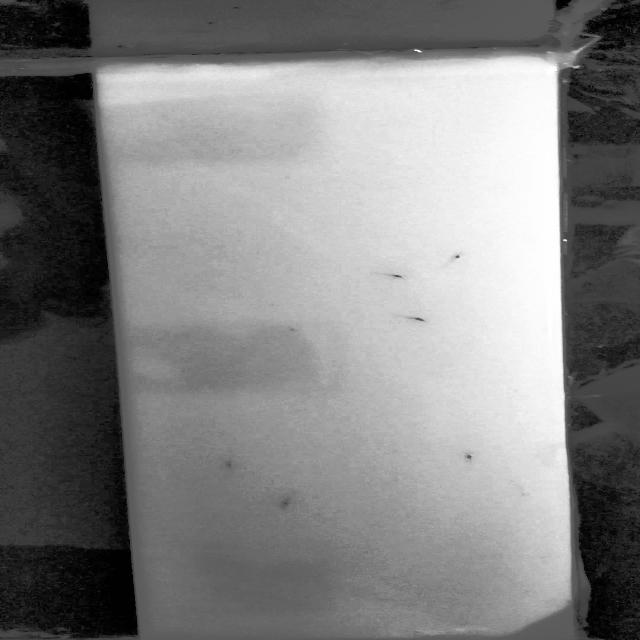shrimp: (448, 449, 486, 465), (408, 312, 438, 332), (442, 249, 470, 270), (274, 496, 302, 516), (385, 273, 418, 286), (208, 460, 234, 475)
